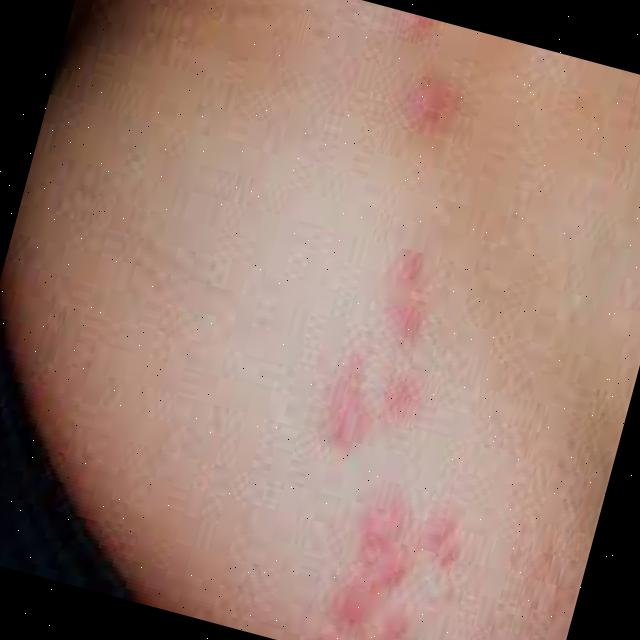kan emici bocekler: (319, 486, 433, 640), (309, 334, 403, 459), (373, 239, 460, 369), (399, 54, 474, 153), (371, 367, 445, 463)
